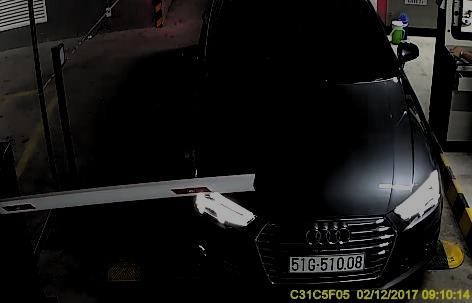plate: (288, 253, 369, 274)
